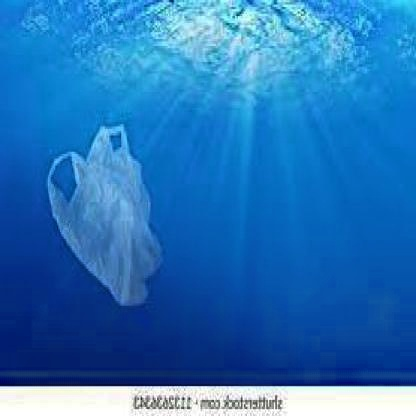pbag: (46, 122, 164, 310)
